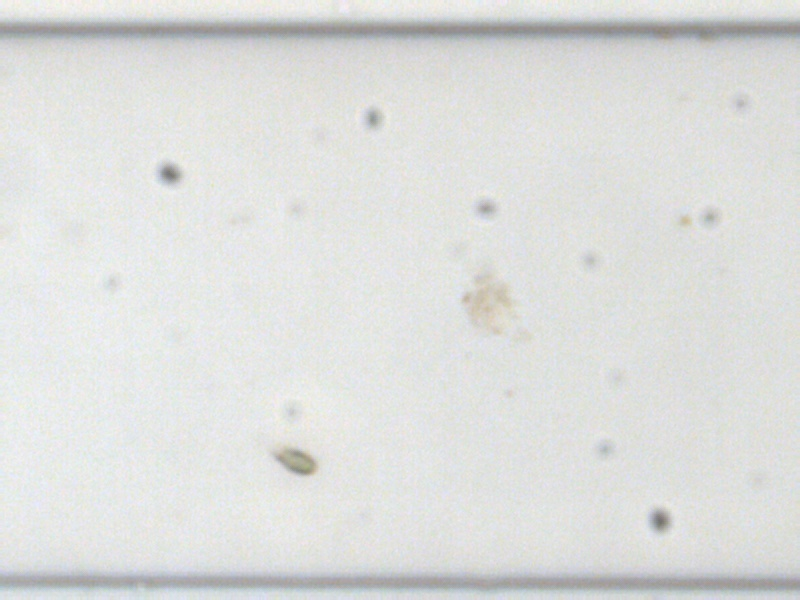Dunaliella salina: (266, 443, 318, 477)
